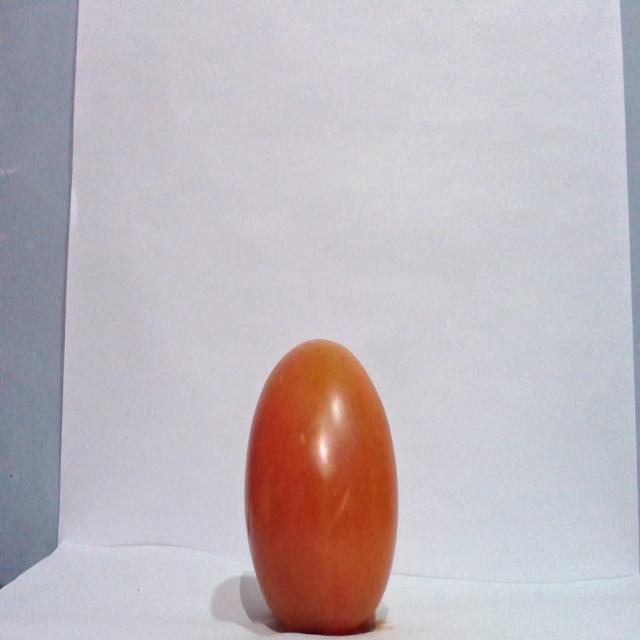Red: (242, 337, 399, 634)
